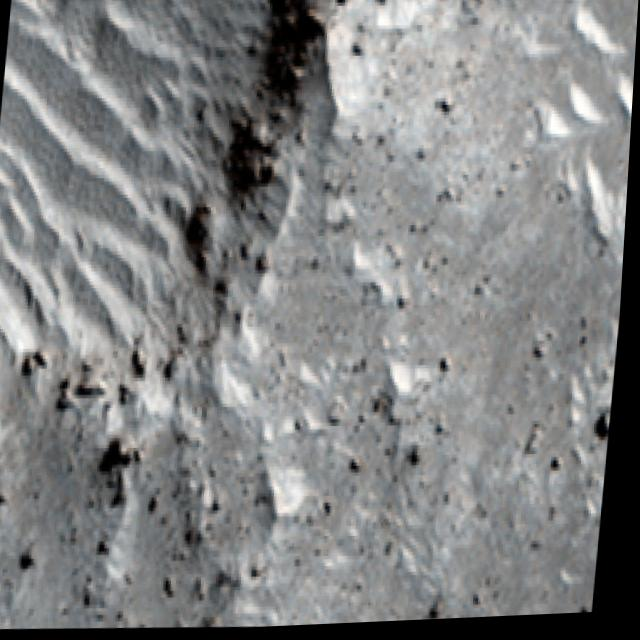Crater: (0, 0, 321, 503)
